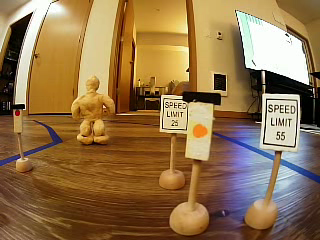Red traffic light: (6, 101, 31, 135)
person: (68, 68, 118, 149)
speed limit 25: (160, 82, 188, 134)
speed limit 55: (259, 88, 301, 154)
yellow traffic light: (190, 83, 221, 162)
